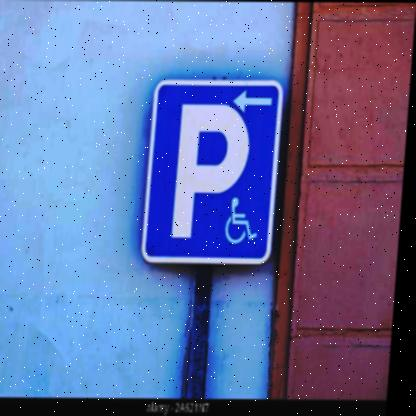Parking: (143, 76, 285, 260)
